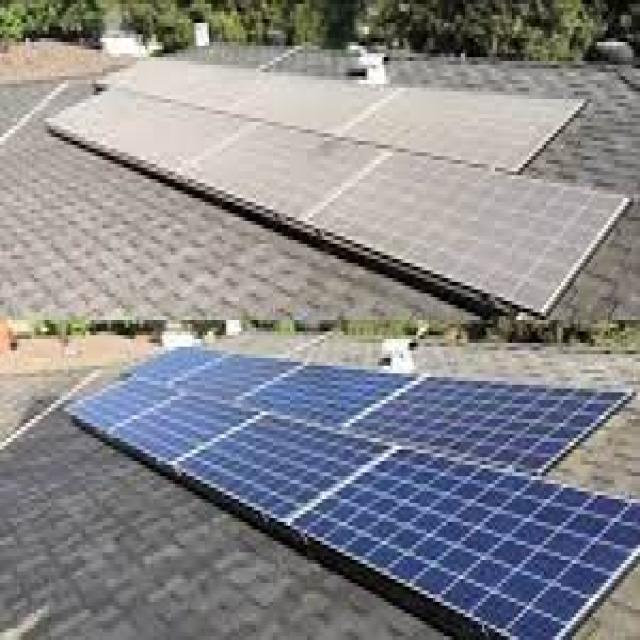clean-solar-panel: (70, 348, 640, 637)
